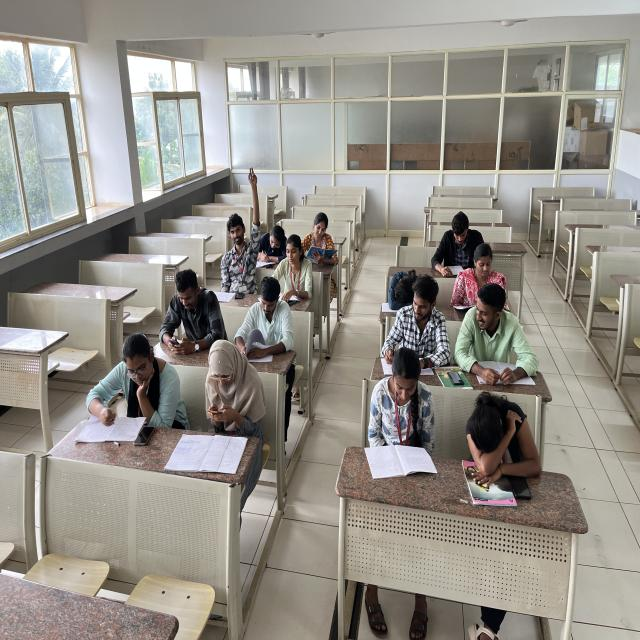Hand Rising: (216, 166, 262, 280)
Reading: (370, 355, 430, 463), (449, 246, 511, 315), (245, 280, 289, 363), (434, 212, 483, 280), (274, 234, 312, 306), (298, 215, 339, 262)
Sleeping: (458, 390, 542, 466), (387, 266, 424, 311)
Using Phone: (195, 341, 262, 423), (159, 268, 217, 351)
Writing: (81, 334, 167, 434), (379, 277, 445, 369), (256, 221, 290, 270)
